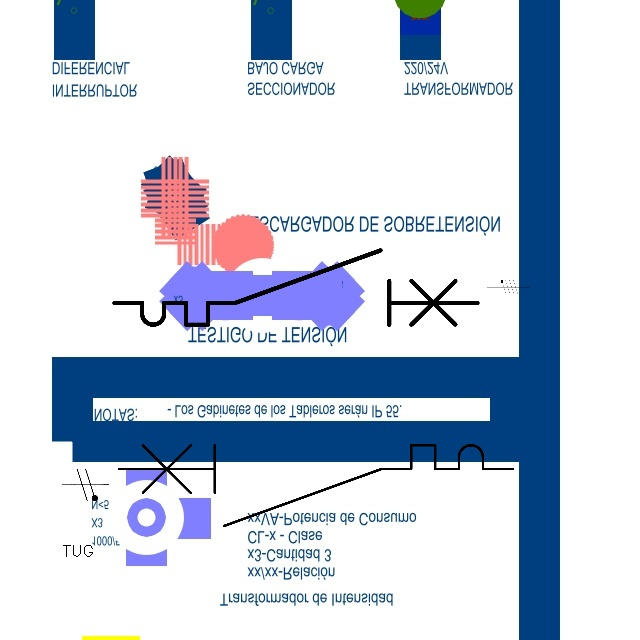interruptor_termomagnetico: (108, 435, 523, 536), (105, 241, 487, 334)
